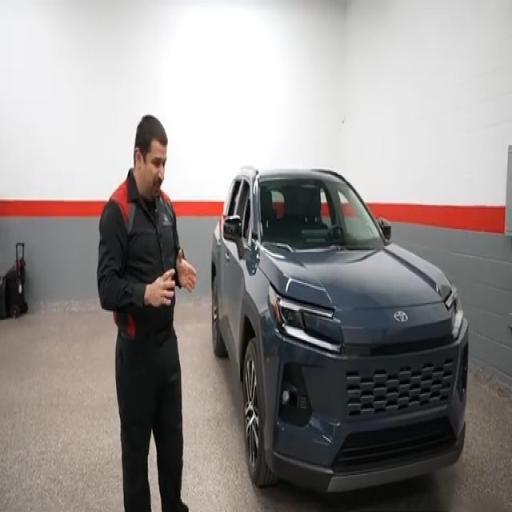bumper: (264, 320, 468, 492), (267, 427, 465, 492)
door: (228, 181, 251, 349), (224, 241, 243, 352), (218, 229, 231, 344)
emblem: (394, 311, 407, 322)
fog_light: (282, 390, 290, 405)
grille: (347, 359, 454, 416)
headlight: (269, 286, 342, 352), (446, 288, 463, 338)
hood: (260, 244, 450, 308)
side_mirror: (223, 215, 243, 257), (223, 215, 241, 243), (378, 218, 391, 240)
tire: (243, 339, 276, 487)
wheel: (212, 278, 227, 356)
window: (236, 180, 250, 243), (224, 180, 240, 216)
windshield: (260, 177, 383, 250)
